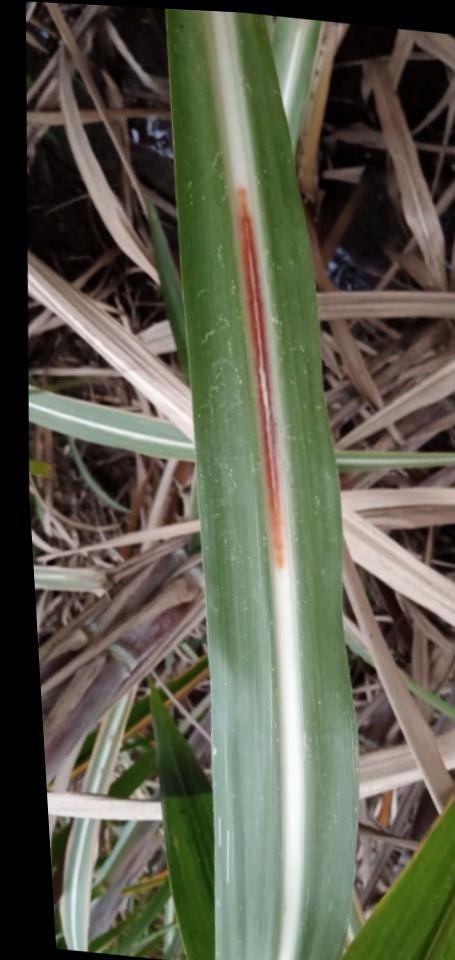RedRot: (235, 187, 283, 570)
